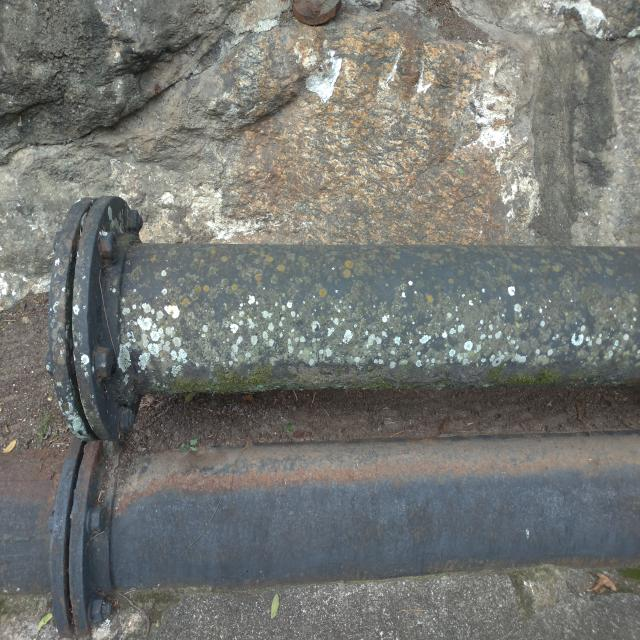gas: (2, 437, 640, 584), (130, 244, 640, 395)
